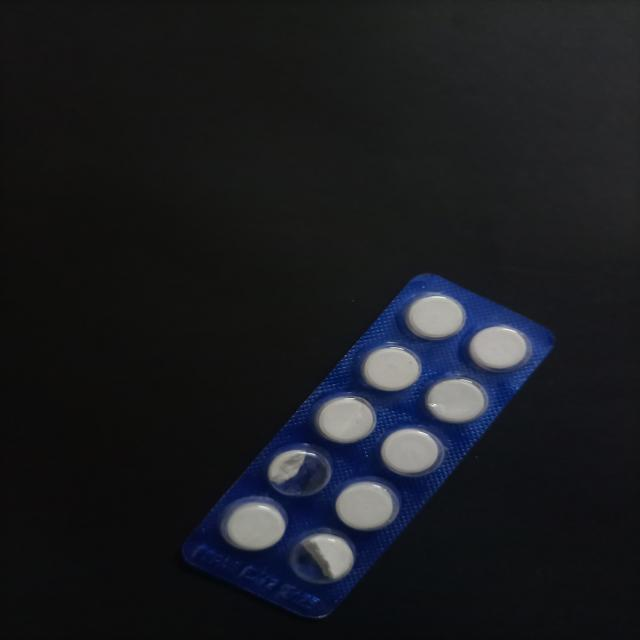defect: (284, 528, 358, 588), (264, 442, 336, 501)
